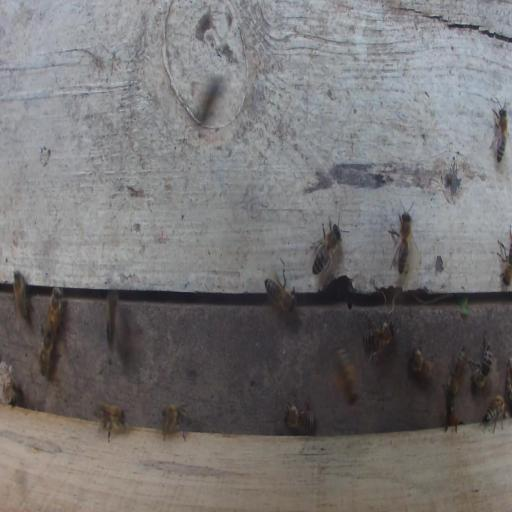bee: (308, 217, 344, 277), (362, 313, 396, 365), (332, 345, 360, 408), (465, 329, 493, 390), (92, 398, 127, 445), (263, 266, 297, 314), (392, 208, 414, 276), (408, 333, 436, 385), (161, 401, 193, 442), (282, 402, 316, 440), (43, 286, 64, 343), (447, 345, 468, 399), (478, 393, 505, 434), (495, 223, 511, 287), (104, 288, 119, 351), (492, 106, 508, 164), (13, 268, 28, 321), (37, 330, 53, 377), (445, 400, 459, 435)
